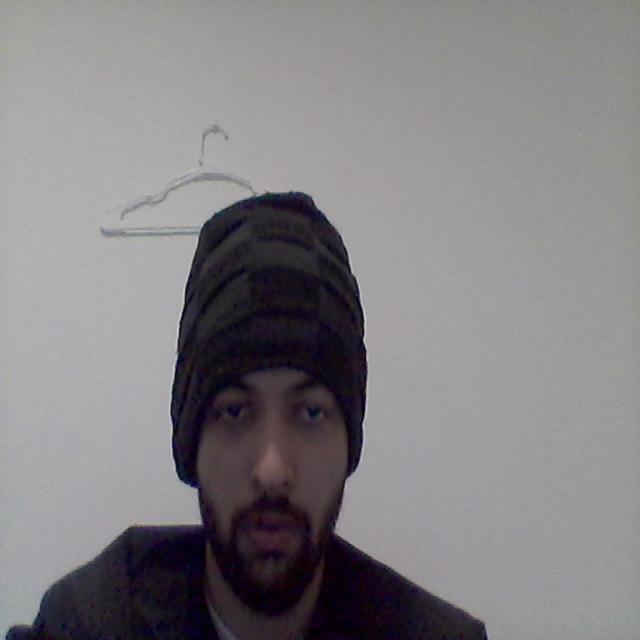cap: (154, 161, 391, 492)
